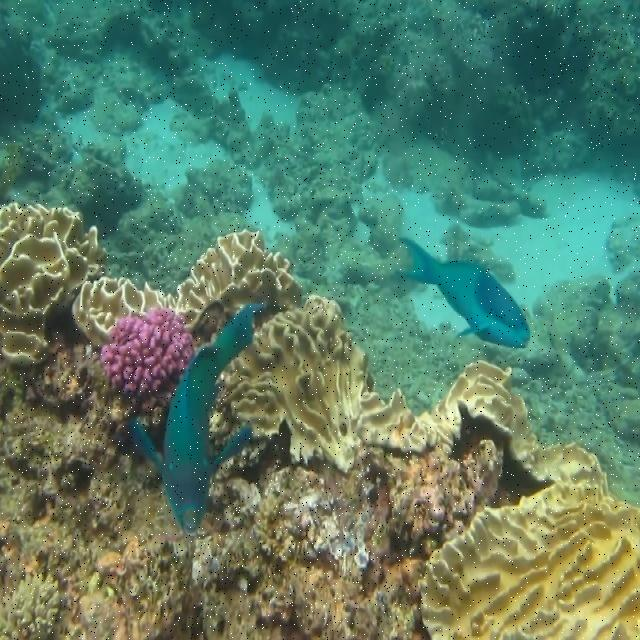fish: (132, 304, 268, 532), (393, 238, 530, 350)
reefs: (210, 294, 639, 639), (0, 202, 304, 367), (99, 307, 195, 405)
